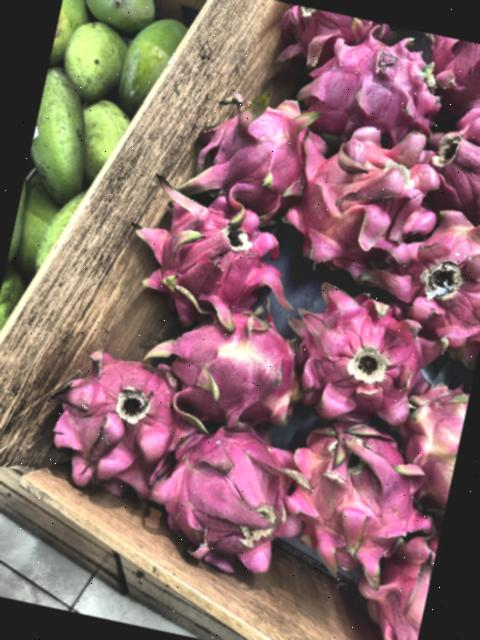buah-naga-belum-matang: (153, 294, 310, 432), (388, 378, 470, 504)
buah-naga-matang: (277, 98, 442, 284), (115, 167, 303, 323), (144, 409, 313, 582), (276, 415, 433, 582), (46, 338, 194, 504), (282, 280, 437, 426), (184, 74, 330, 228), (294, 20, 444, 146), (382, 197, 480, 354), (359, 525, 439, 640), (413, 100, 480, 220), (278, 2, 401, 60), (422, 34, 480, 113)
